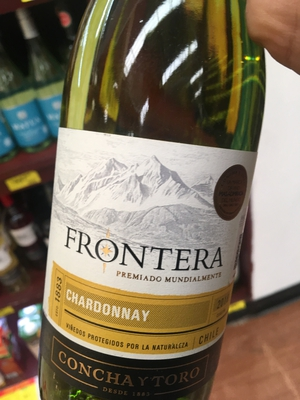frontera chardonnay: (37, 12, 277, 400)
